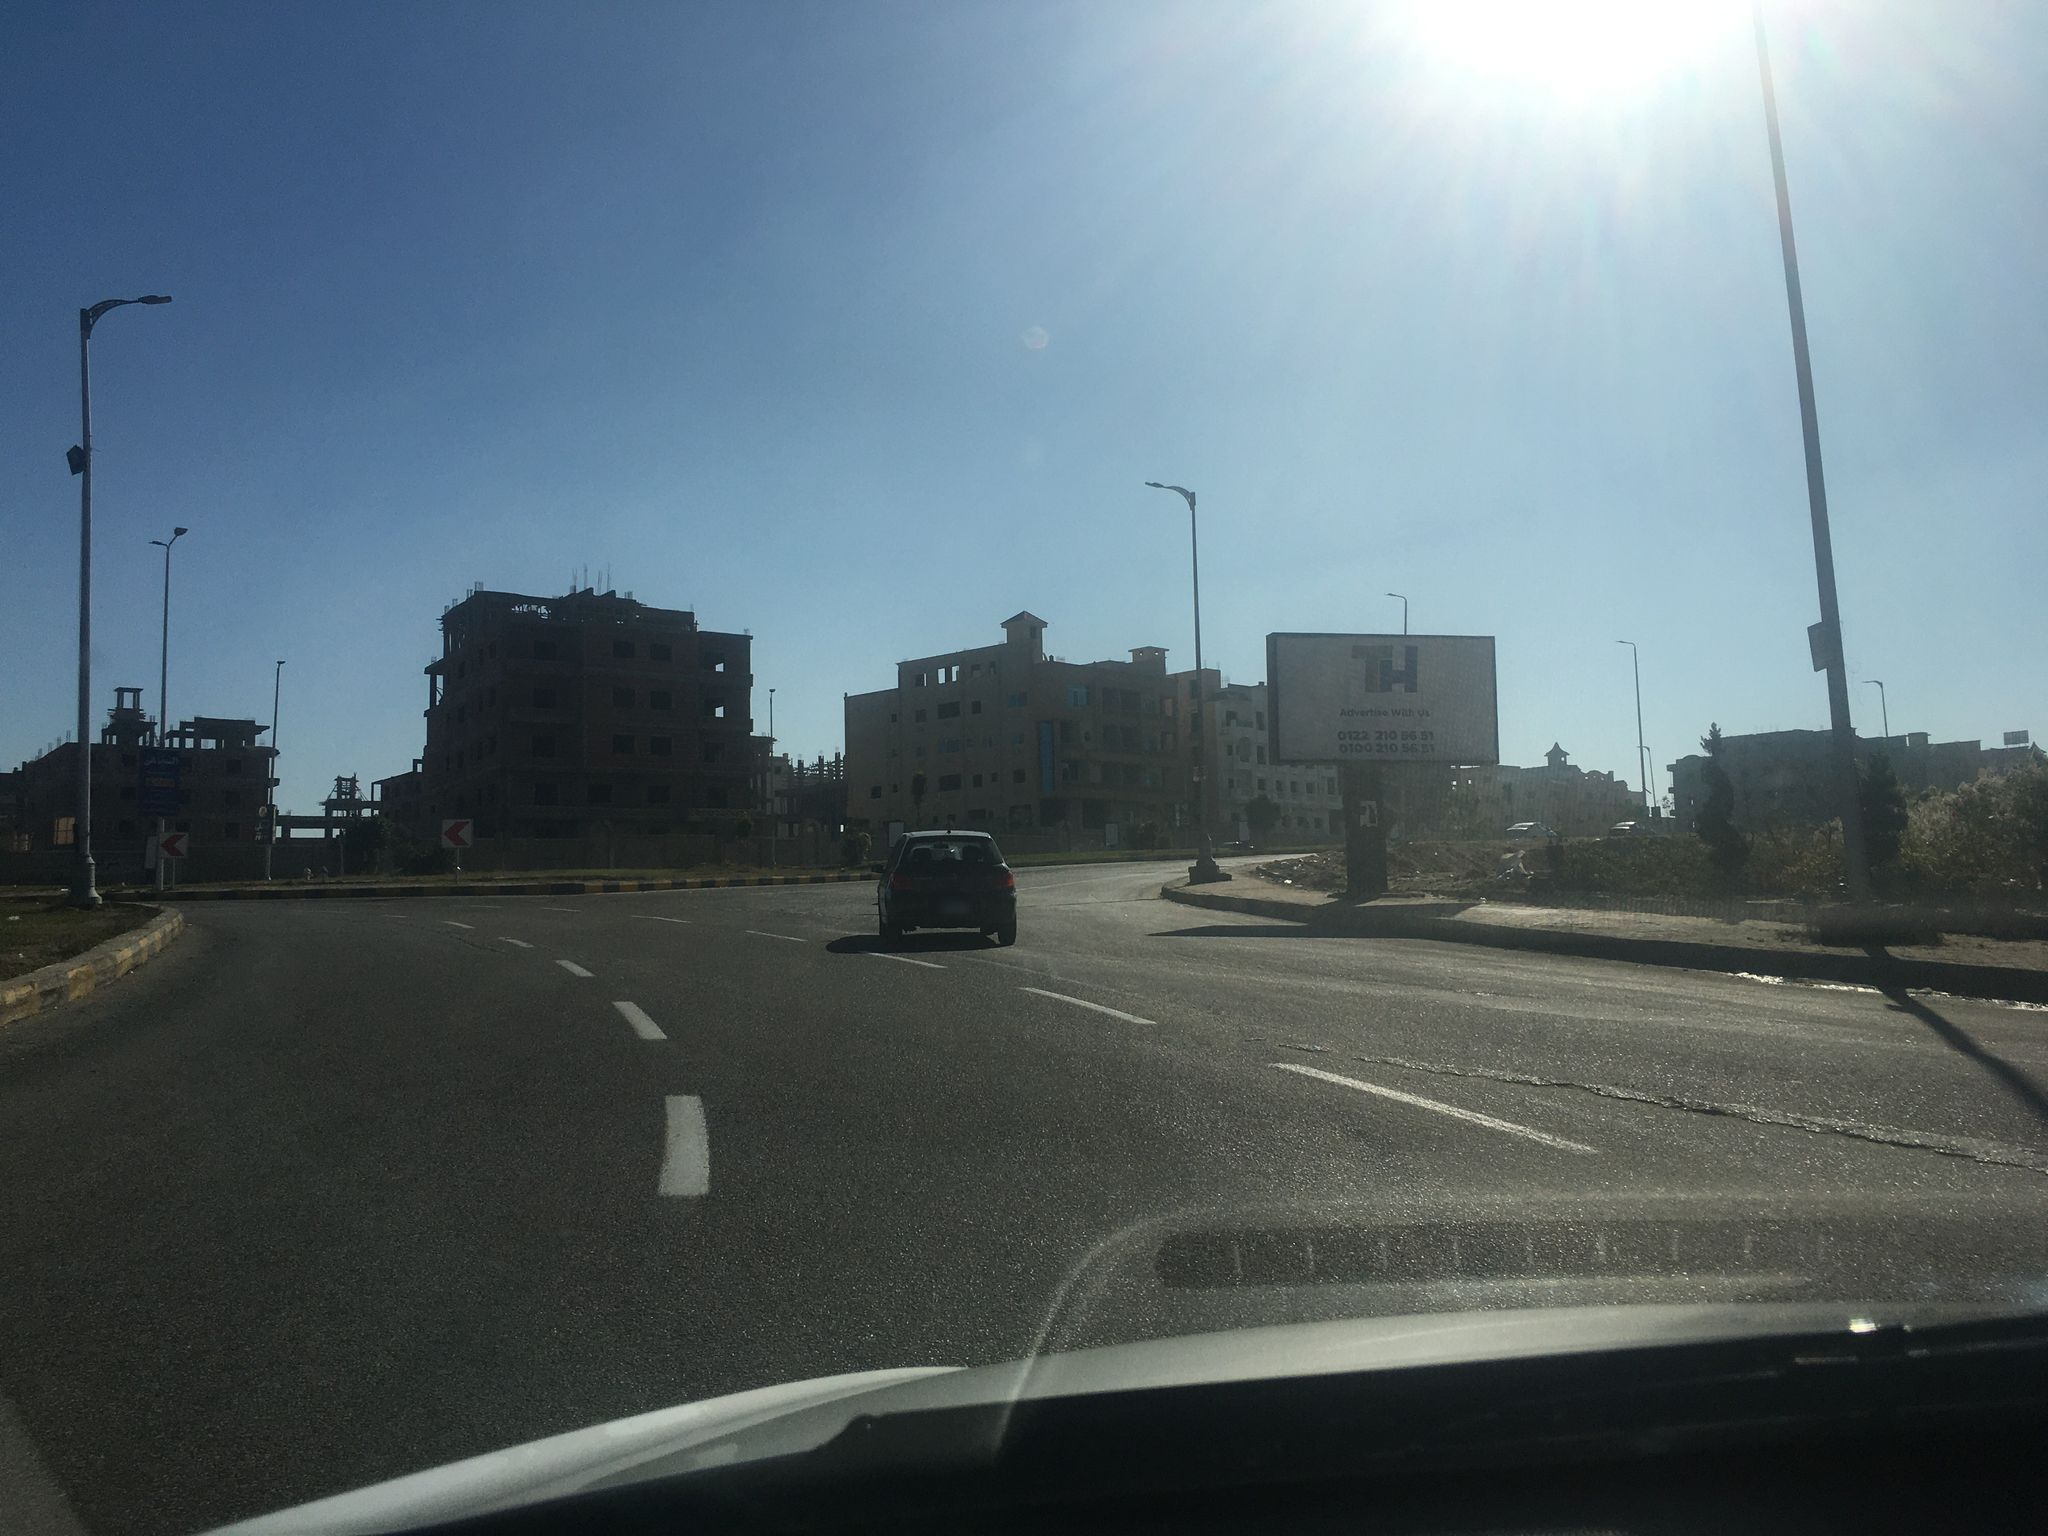car: (868, 826, 1018, 945)
